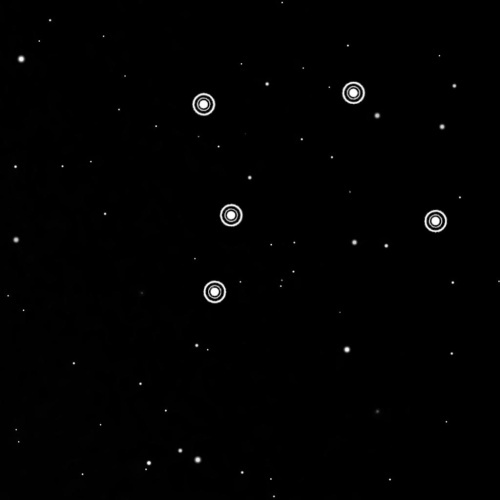libra: (183, 69, 458, 310)
